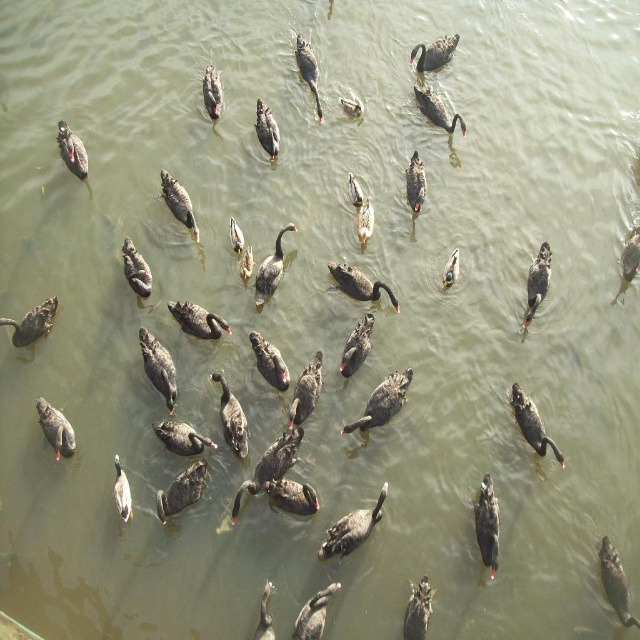Duck: (232, 421, 301, 520), (340, 364, 416, 437), (510, 379, 568, 469), (324, 487, 396, 556), (599, 535, 640, 631), (156, 456, 215, 522), (255, 218, 298, 307), (325, 262, 397, 315), (137, 329, 179, 417), (0, 294, 62, 351), (159, 167, 201, 245), (285, 346, 323, 429), (34, 393, 77, 466), (412, 85, 464, 143), (212, 376, 251, 453), (520, 239, 553, 329), (152, 422, 224, 463), (248, 323, 292, 389), (168, 299, 232, 343), (476, 474, 503, 578), (293, 582, 341, 639), (336, 311, 374, 380), (407, 30, 462, 74), (263, 474, 322, 514), (54, 120, 91, 183), (295, 33, 321, 120), (402, 577, 436, 639), (124, 237, 152, 301), (110, 453, 135, 522), (255, 96, 280, 165), (404, 149, 427, 223), (253, 583, 275, 639), (622, 226, 640, 281), (355, 196, 371, 253), (442, 245, 461, 286), (336, 95, 360, 121), (229, 220, 245, 255), (348, 173, 364, 208)
